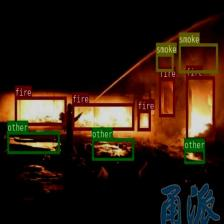fire: (186, 76, 215, 140), (72, 103, 134, 130), (14, 96, 66, 125), (159, 76, 174, 116), (137, 110, 150, 130)
smoke: (178, 42, 218, 72), (155, 53, 173, 71)
